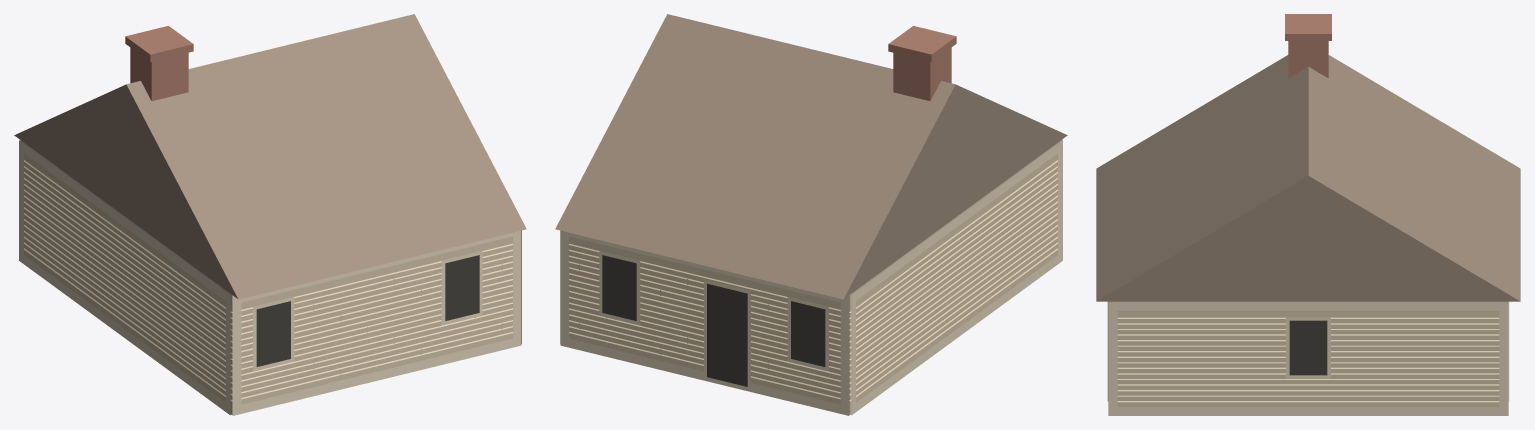
Rendered from recon_1835_north_d4_056__inferred_1835.glb.
The picture shows the model from 3 angles, left to right: view 1: azimuth 30°, elevation 25°; view 2: azimuth 150°, elevation 25°; view 3: azimuth 270°, elevation 25°; orthographic projection. The views are drawn at different scales.
Parts seen in each view (by area): view 1: recon_1835_north_d4_056__inferred_1835; view 2: recon_1835_north_d4_056__inferred_1835; view 3: recon_1835_north_d4_056__inferred_1835.
Boxes of the visible parts, bbox=[...] form: recon_1835_north_d4_056__inferred_1835: bbox=[14, 14, 526, 415]; recon_1835_north_d4_056__inferred_1835: bbox=[555, 14, 1067, 415]; recon_1835_north_d4_056__inferred_1835: bbox=[1096, 14, 1520, 415].
Size of the model in its own units: 6.6 by 6.26 by 8.8.
